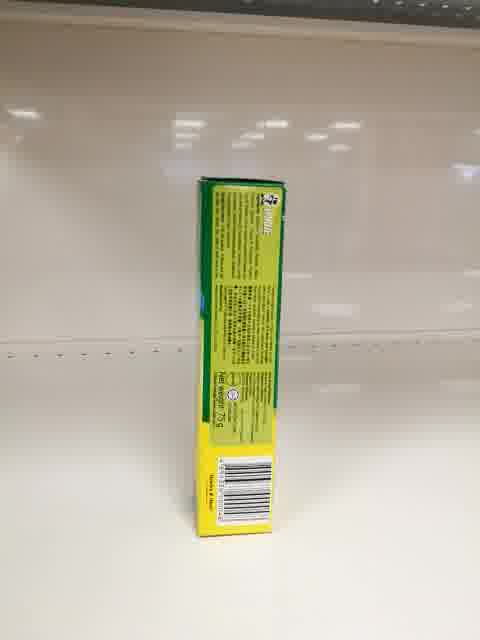toothpaste: (194, 175, 287, 540)
